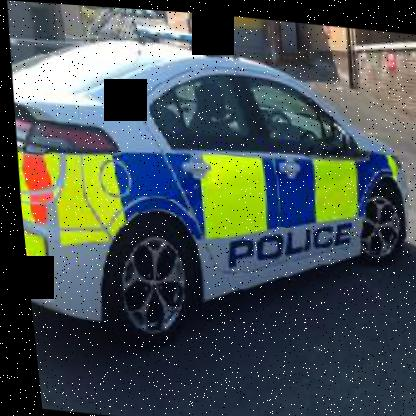emergency: (1, 12, 415, 365)
